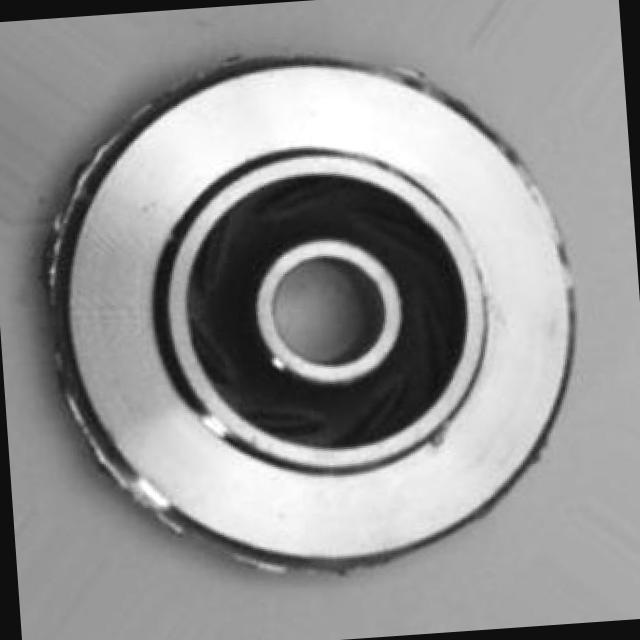Defect: (59, 389, 117, 479)
